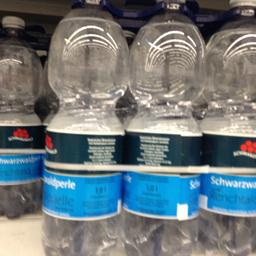water: (42, 0, 128, 255), (122, 0, 207, 255), (206, 0, 254, 253), (0, 14, 45, 220)
